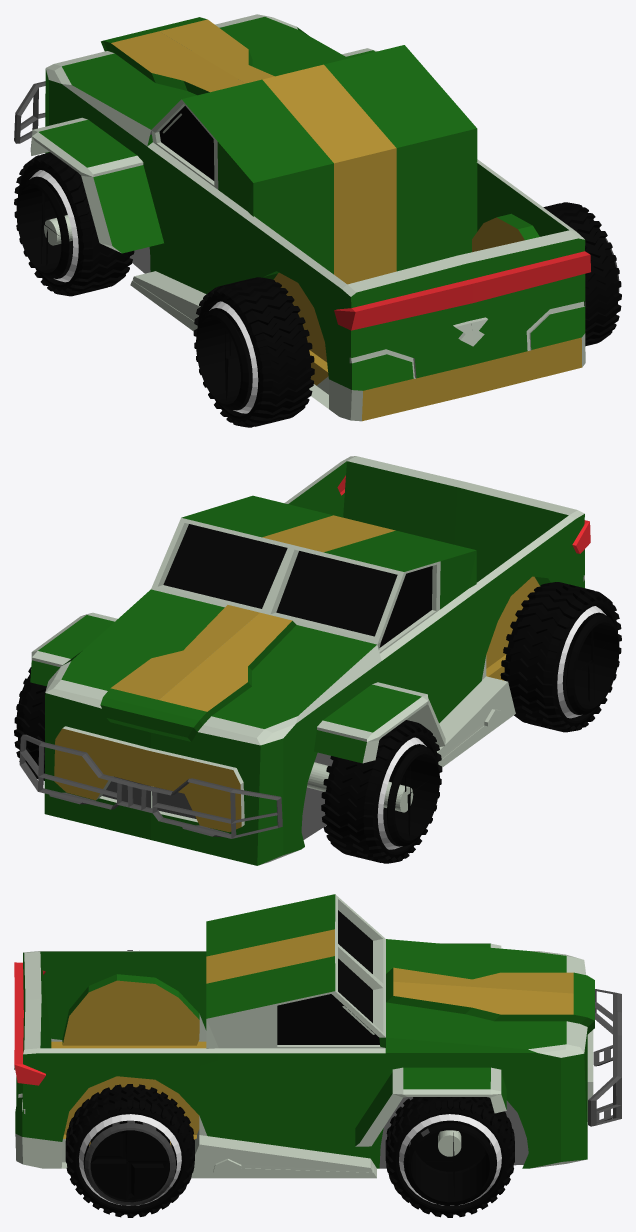
Rendered from Jeep.fbx.
3 views of the same model, one above another, from view 1: azimuth 30°, elevation 25°; view 2: azimuth 150°, elevation 25°; view 3: azimuth 270°, elevation 25° (orthographic). The views are drawn at different scales.
Visible parts, largest first — view 1: Cube, Cylinder.001; view 2: Cube, Cylinder.001; view 3: Cube, Cylinder.001.
Boxes of the visible parts, <box> form: Cube: <box>14,14,590,421</box>; Cylinder.001: <box>14,152,621,427</box>; Cube: <box>19,456,590,865</box>; Cylinder.001: <box>14,582,621,863</box>; Cube: <box>14,894,621,1178</box>; Cylinder.001: <box>65,950,514,1217</box>.
Bounding box in the file's own units: 488 × 277 × 762.
